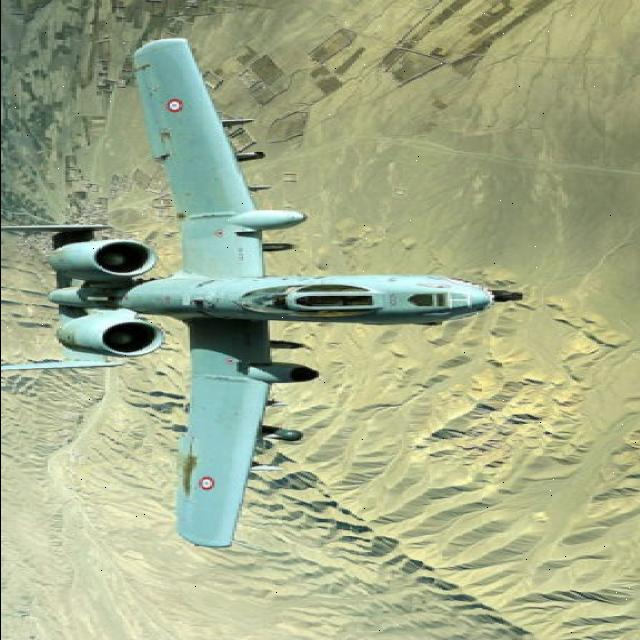A10: (5, 19, 548, 563)
